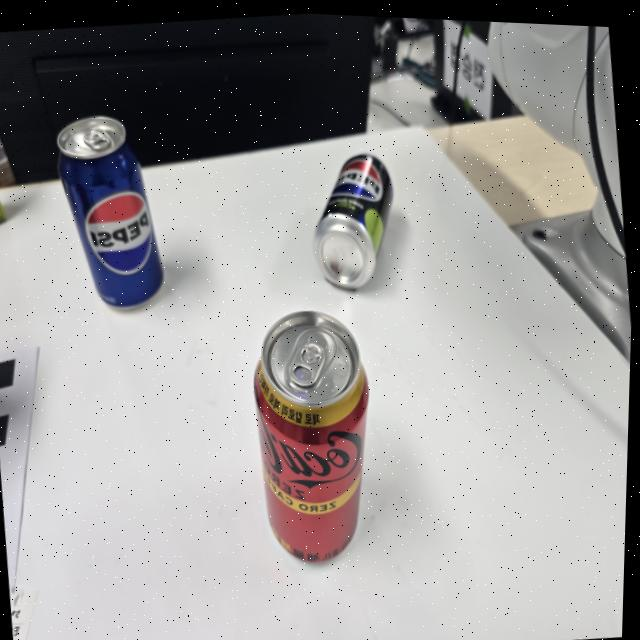can_coke_decaf: (251, 309, 369, 568)
can_pepsi: (58, 116, 162, 308)
can_pepsi_zero: (315, 153, 394, 290)
